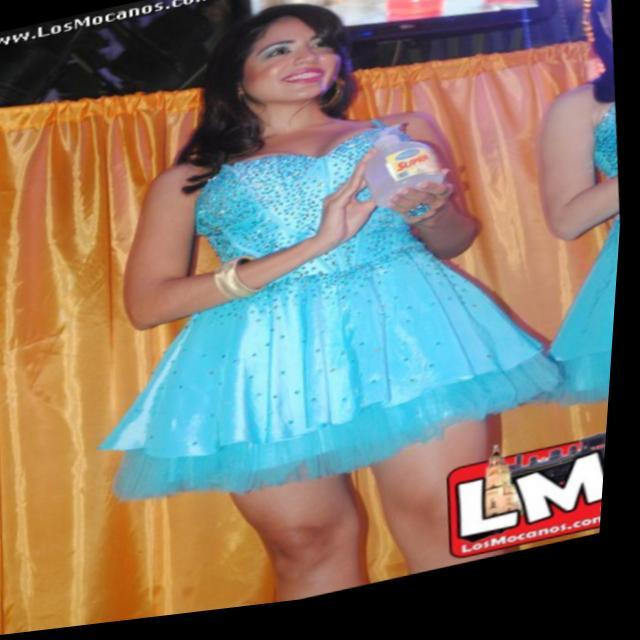Nonhelmet: (208, 0, 359, 115)
